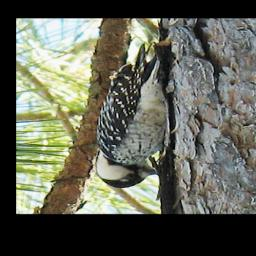Woodpecker: (95, 40, 171, 189)
